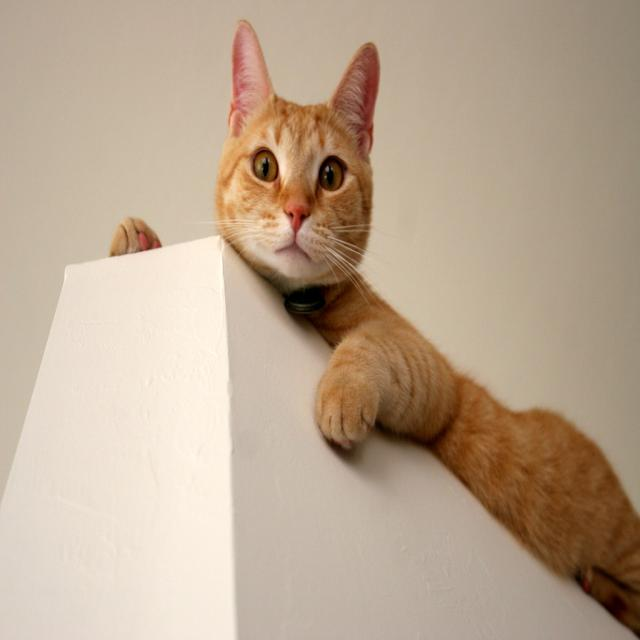left eye: (316, 153, 348, 193)
